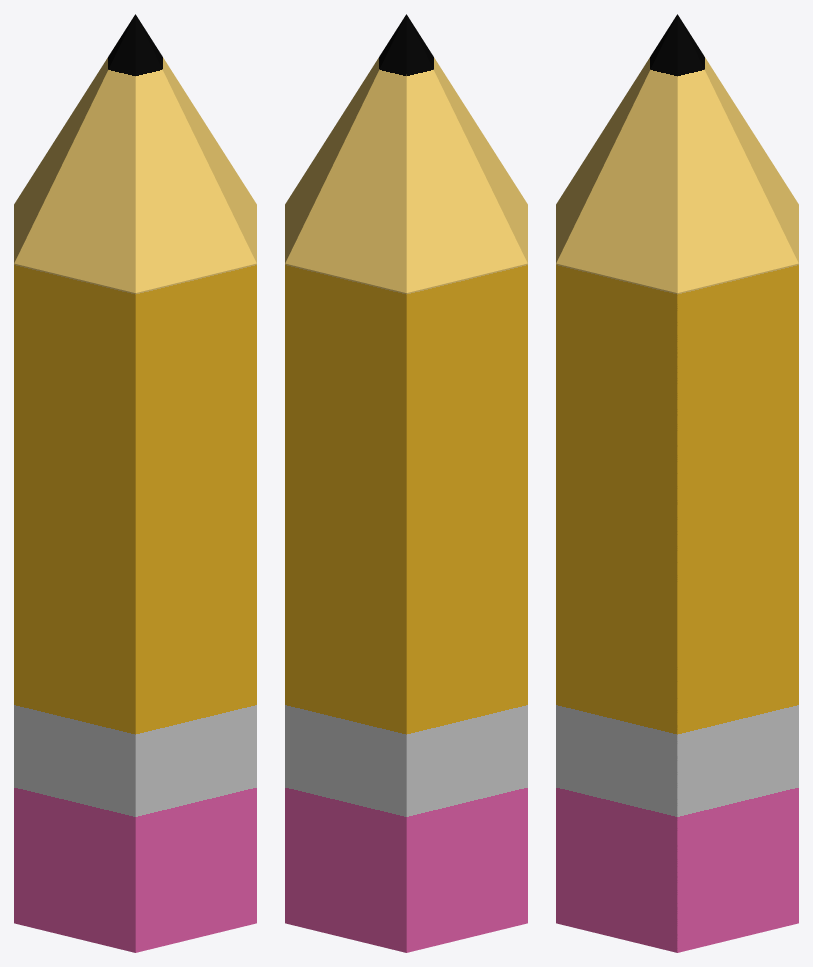
File: Pencil.fbx
3 renders of one model, left to right at view 1: azimuth 30°, elevation 25°; view 2: azimuth 150°, elevation 25°; view 3: azimuth 270°, elevation 25°, orthographic.
Parts seen in each view (by area): view 1: cylinder; view 2: cylinder; view 3: cylinder.
Boxes of the visible parts, left/top/right/bottom form: cylinder: left=14, top=14, right=256, bottom=952; cylinder: left=285, top=14, right=527, bottom=952; cylinder: left=556, top=14, right=798, bottom=952.
Size of the model in its own units: 57.74 by 200 by 50.
1 material, 1 textured.
